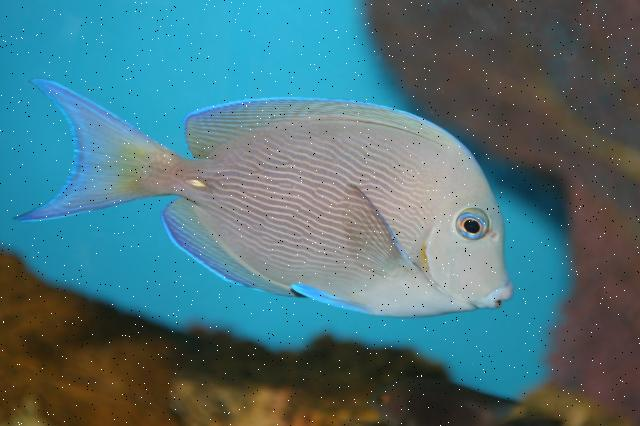Mulut: (463, 266, 541, 336)
Sirip Anal: (152, 187, 300, 307)
Sirip Dada: (314, 177, 426, 292)
Sirip Ekor: (5, 69, 186, 237)
Sirip Perut: (279, 278, 389, 334)
Sirip Punggung: (179, 90, 447, 170)
